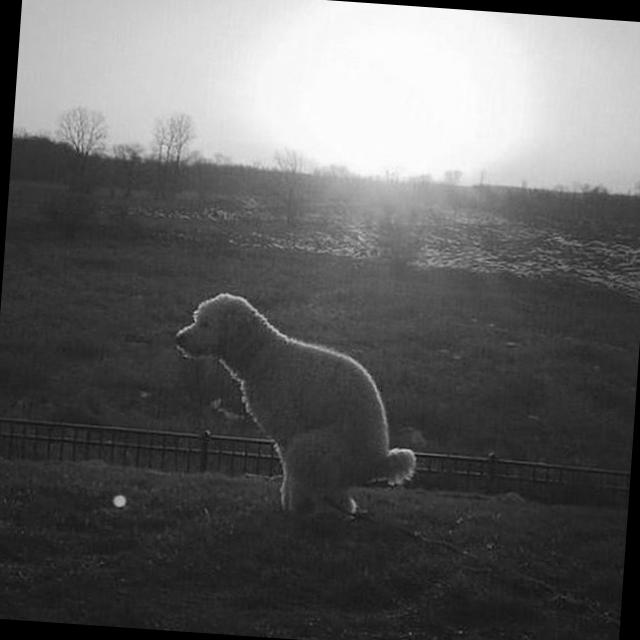squatting: (150, 270, 447, 545)
